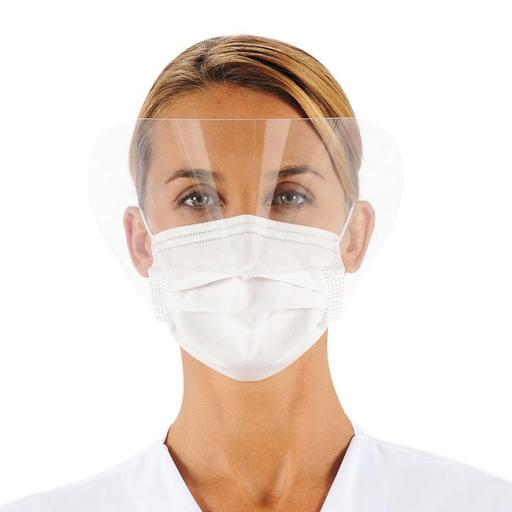mask: (134, 219, 381, 387)
